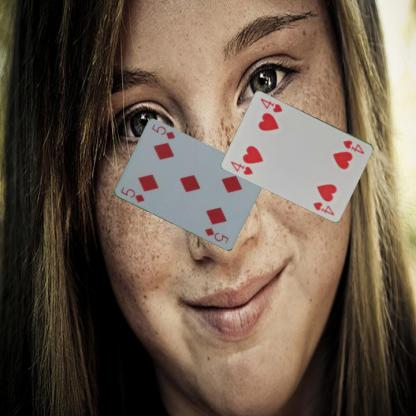4h: (340, 138, 366, 156), (228, 158, 254, 176)
5d: (118, 184, 147, 204)
